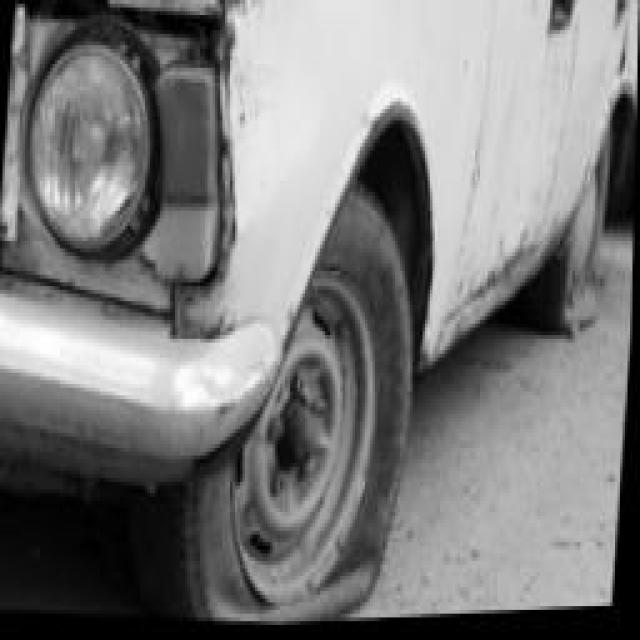Light: (0, 0, 237, 295)
